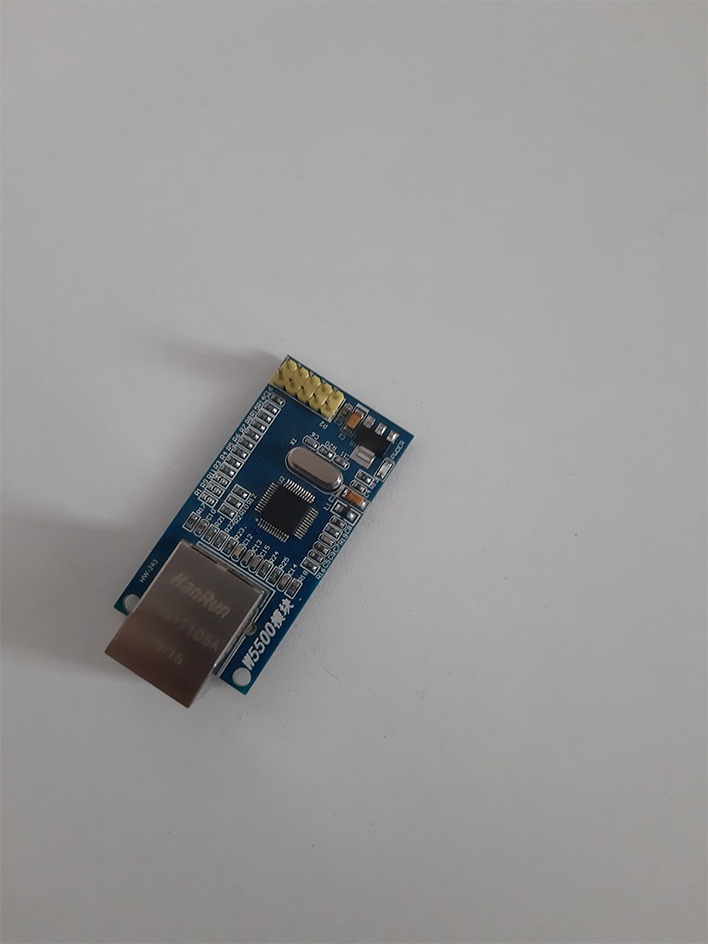Ethernet-W5500: (85, 326, 430, 755)
